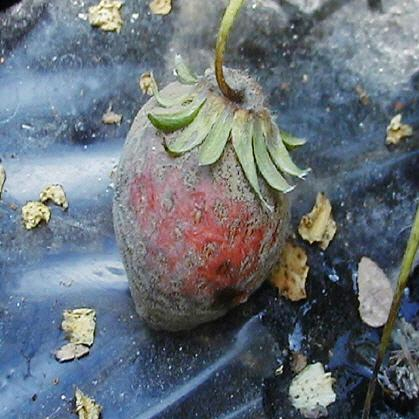Gray Mold: (112, 64, 309, 331)
